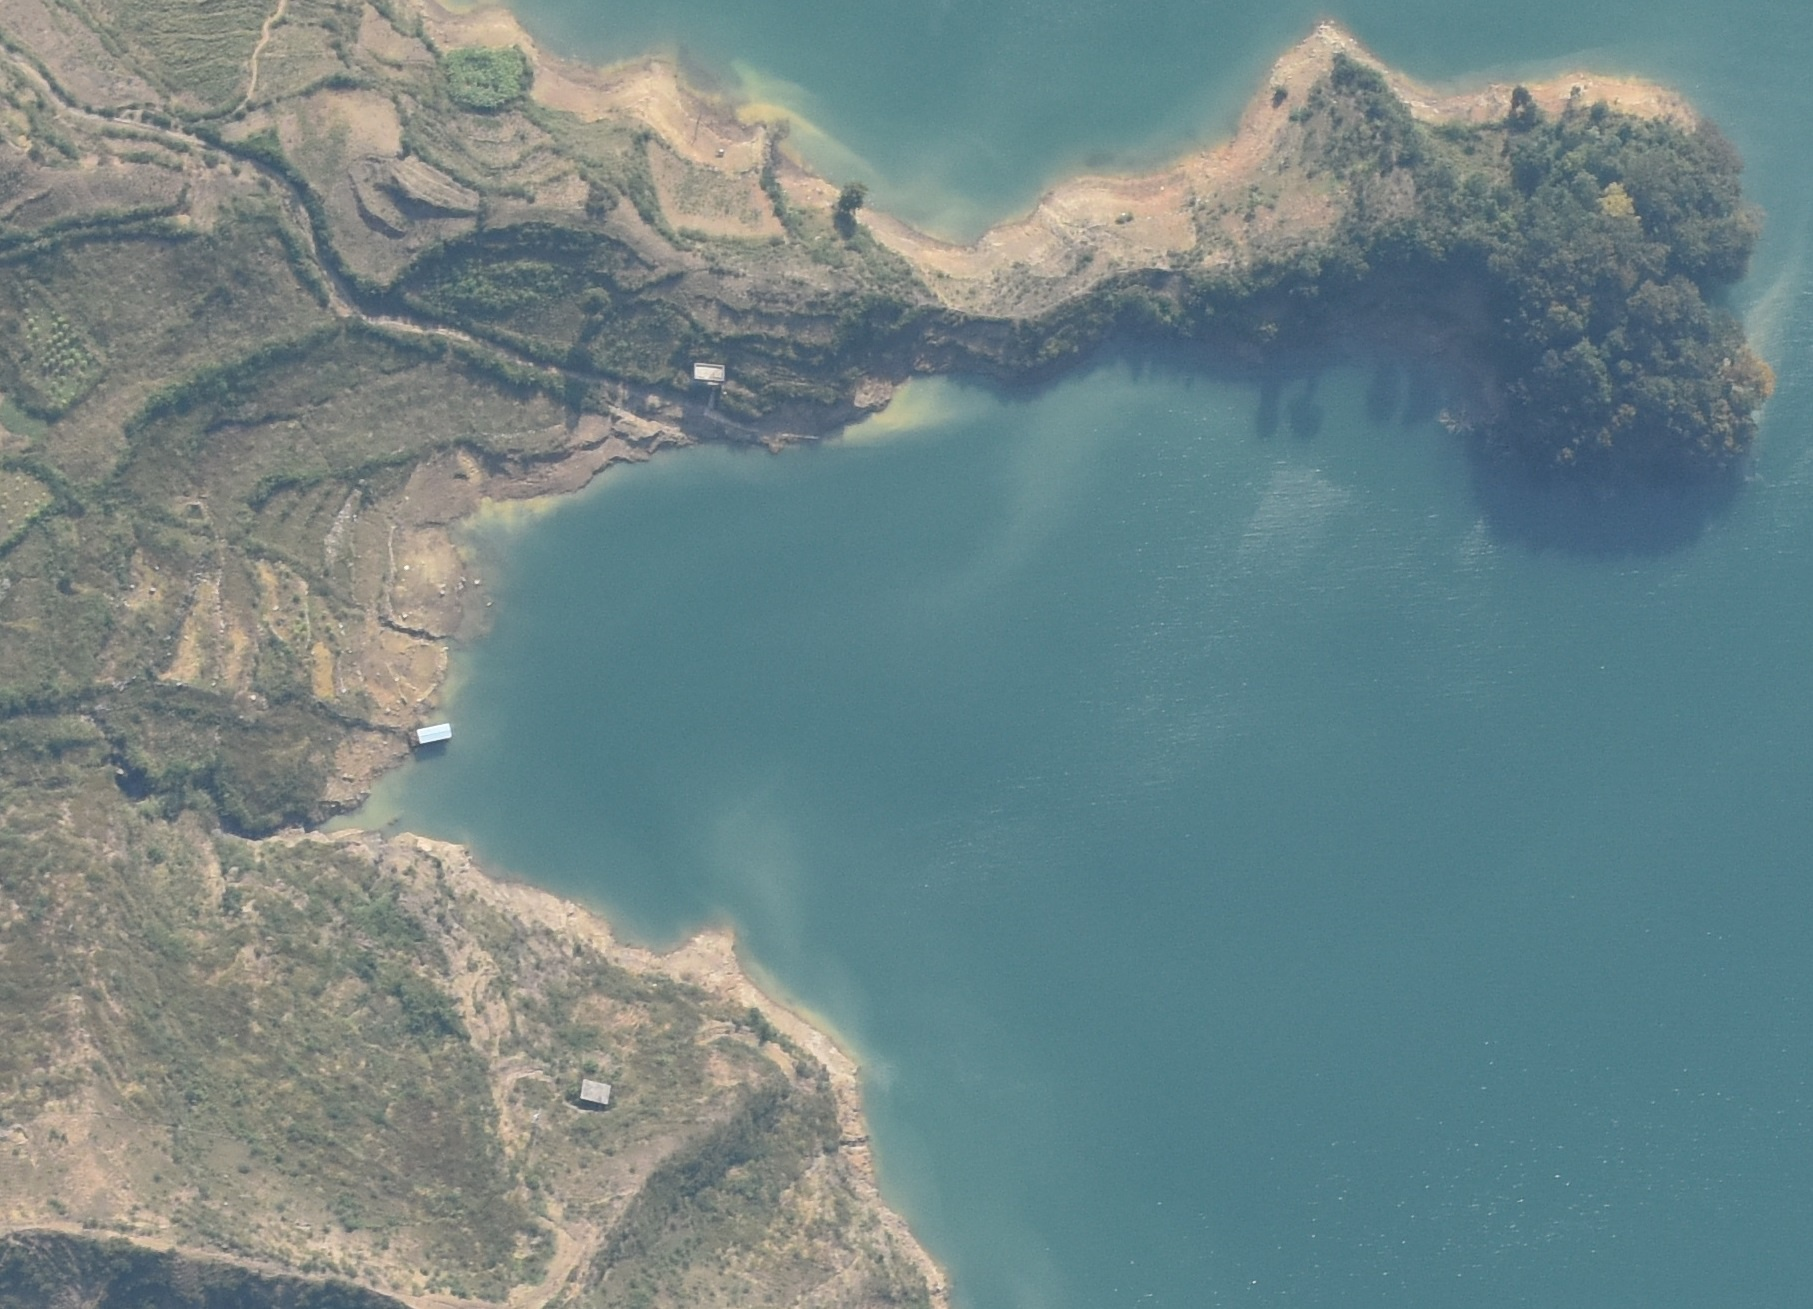building: (579, 1080, 609, 1104), (690, 362, 722, 381)
prefabricated-house: (408, 722, 450, 746)
